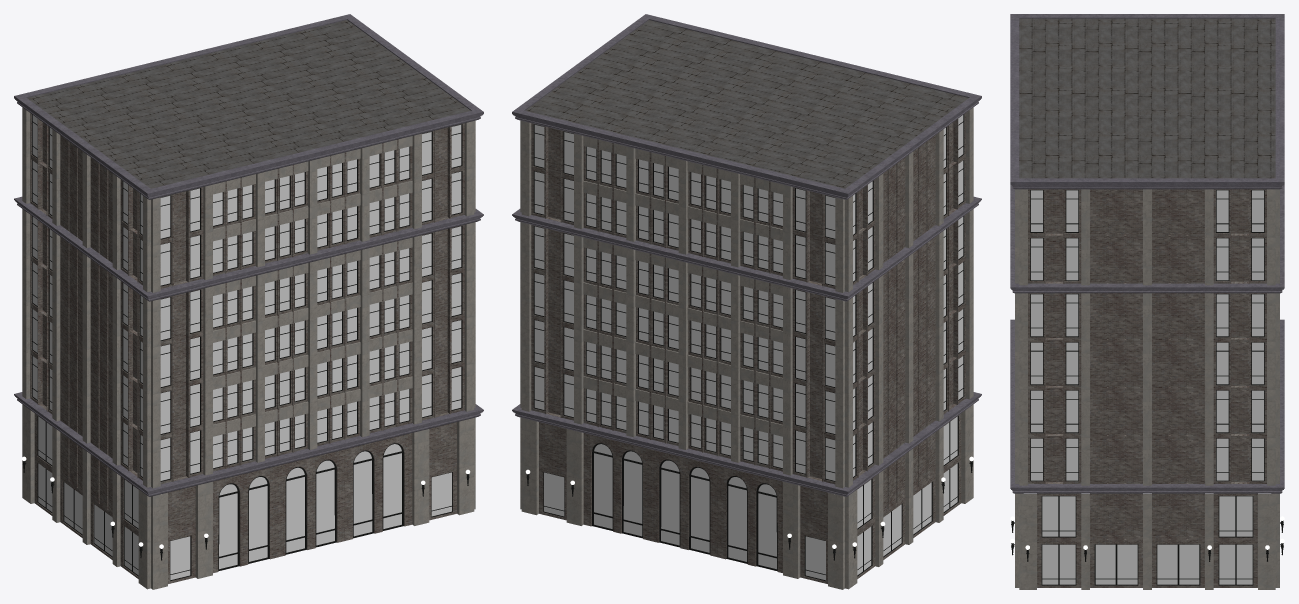
The model's file is Building_32.fbx.
3 renders of one model, left to right at view 1: azimuth 30°, elevation 25°; view 2: azimuth 150°, elevation 25°; view 3: azimuth 270°, elevation 25°, orthographic. The views are drawn at different scales.
Parts seen in each view (by area): view 1: Building_2_31_LOD0; view 2: Building_2_31_LOD0; view 3: Building_2_31_LOD0.
Boxes of the visible parts, <box> form: Building_2_31_LOD0: <box>14,14,483,589</box>; Building_2_31_LOD0: <box>512,14,981,589</box>; Building_2_31_LOD0: <box>1010,14,1284,589</box>.
Size of what is drawn, in the model's own units: 2747 by 3117 by 1892.
